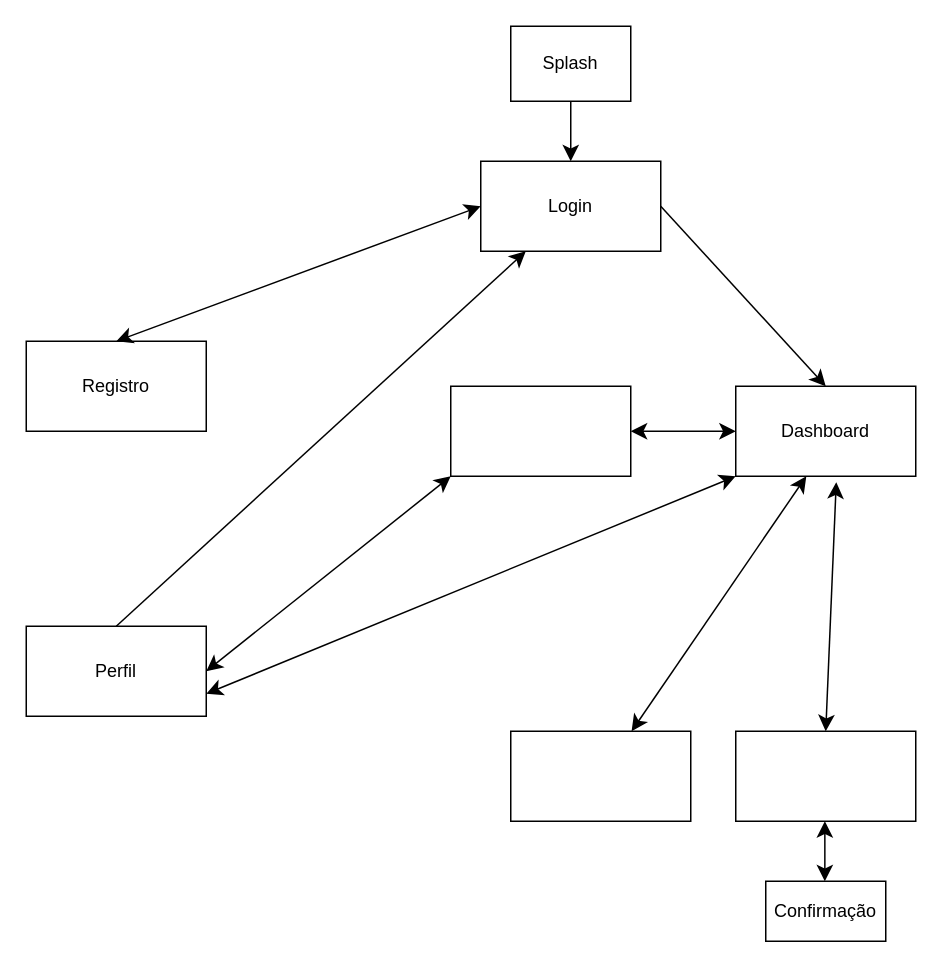
This 942x968 diagram has some shape labels left out. Each missing label, with the box of its shape:
Adicionar Medicação: (509, 730, 691, 821)
Detalhes Medicação: (734, 730, 916, 821)
Histórico: (449, 385, 631, 476)
